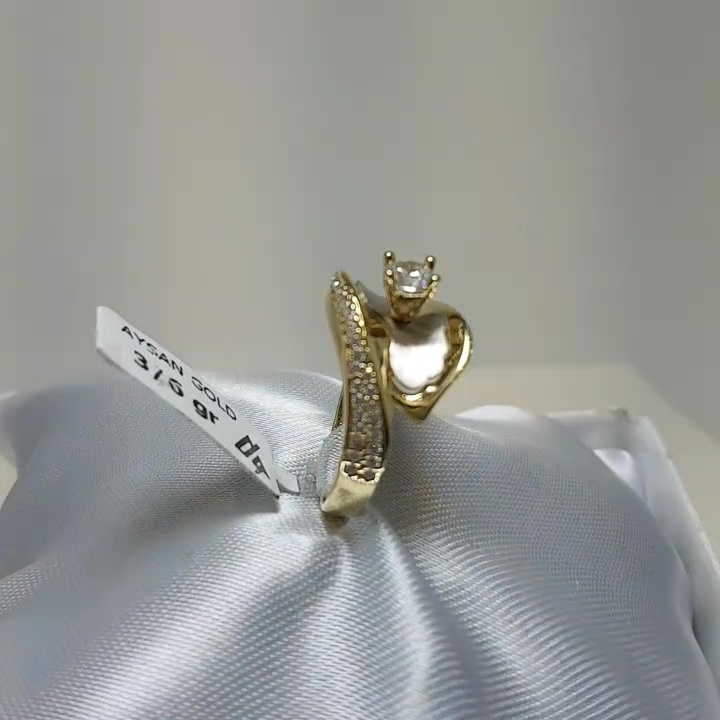Ring 6: (287, 242, 487, 540)
